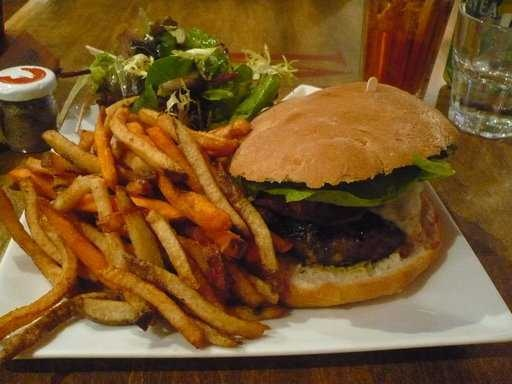hamburger: (220, 96, 450, 299)
